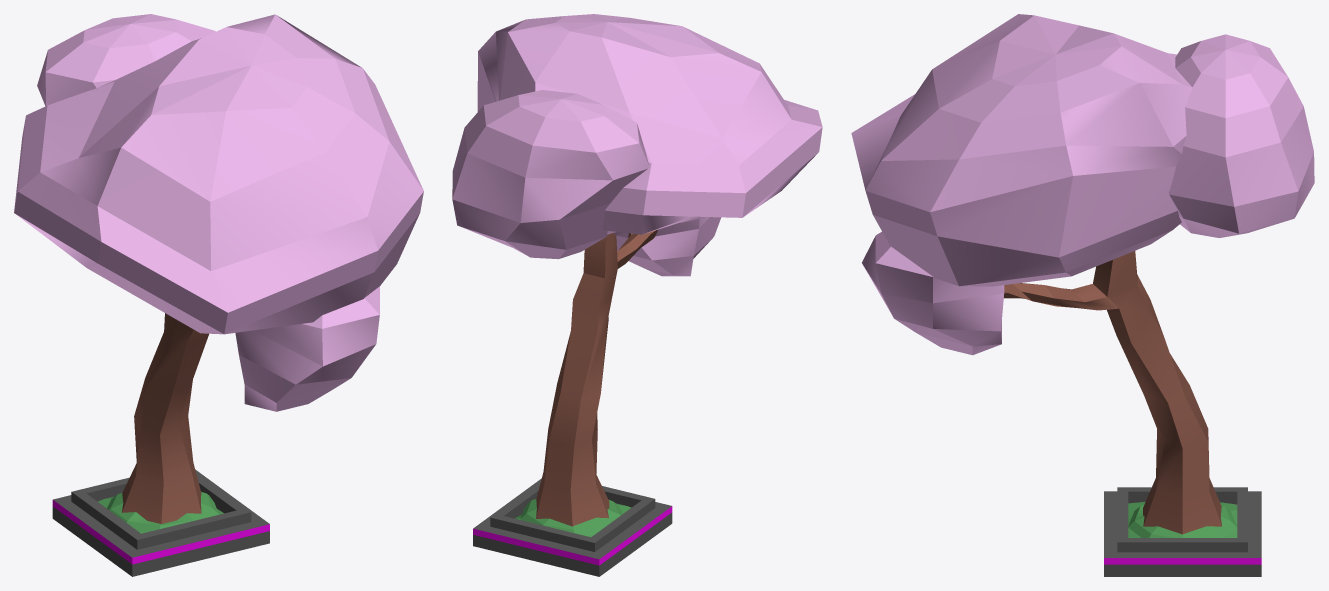
The model's file is CherryBlossomTree.fbx.
The picture shows the model from 3 angles, left to right: view 1: azimuth 30°, elevation 25°; view 2: azimuth 150°, elevation 25°; view 3: azimuth 270°, elevation 25°; orthographic projection. The views are drawn at different scales.
Parts seen in each view (by area): view 1: pCylinder2; view 2: pCylinder2; view 3: pCylinder2.
Part boxes in pixels (x1=…): pCylinder2: x1=14, y1=14, x2=423, y2=576; pCylinder2: x1=452, y1=14, x2=822, y2=576; pCylinder2: x1=851, y1=14, x2=1314, y2=576.
Size of the model in its own units: 53.77 by 80.12 by 65.47.
